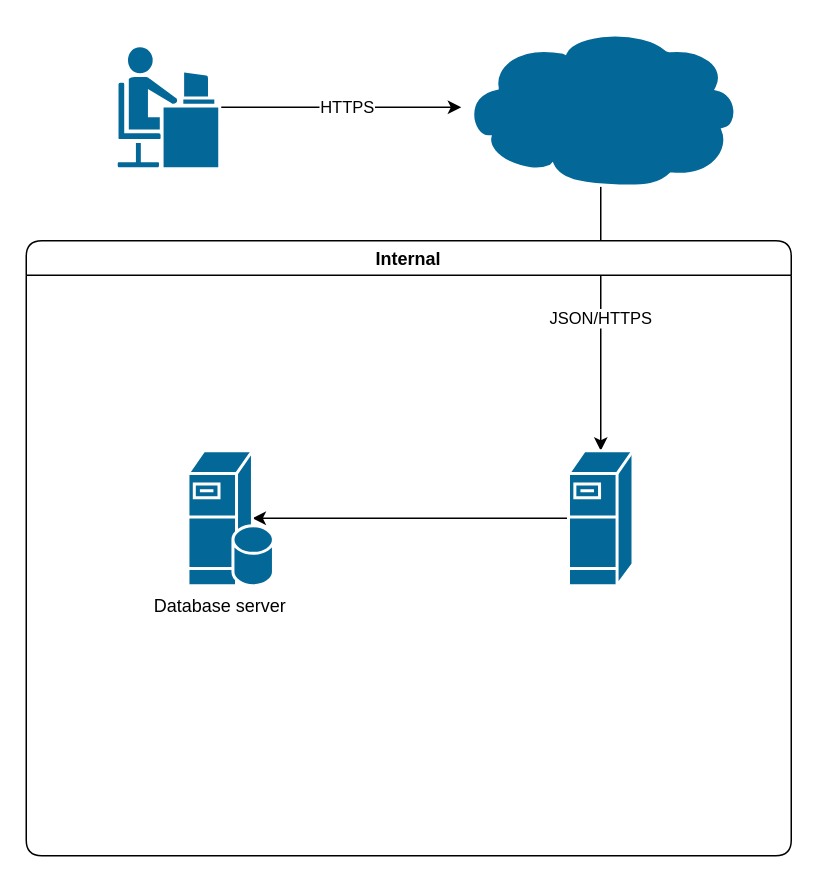
The diagram is 818 pixels wide and 882 high, and some of its shapes have lost their labels. The box of each missing label's shape, as (x1, y1, x2, y2) in pixels:
User: (114, 44, 220, 170)
Web server / Application server: (566, 448, 634, 586)
